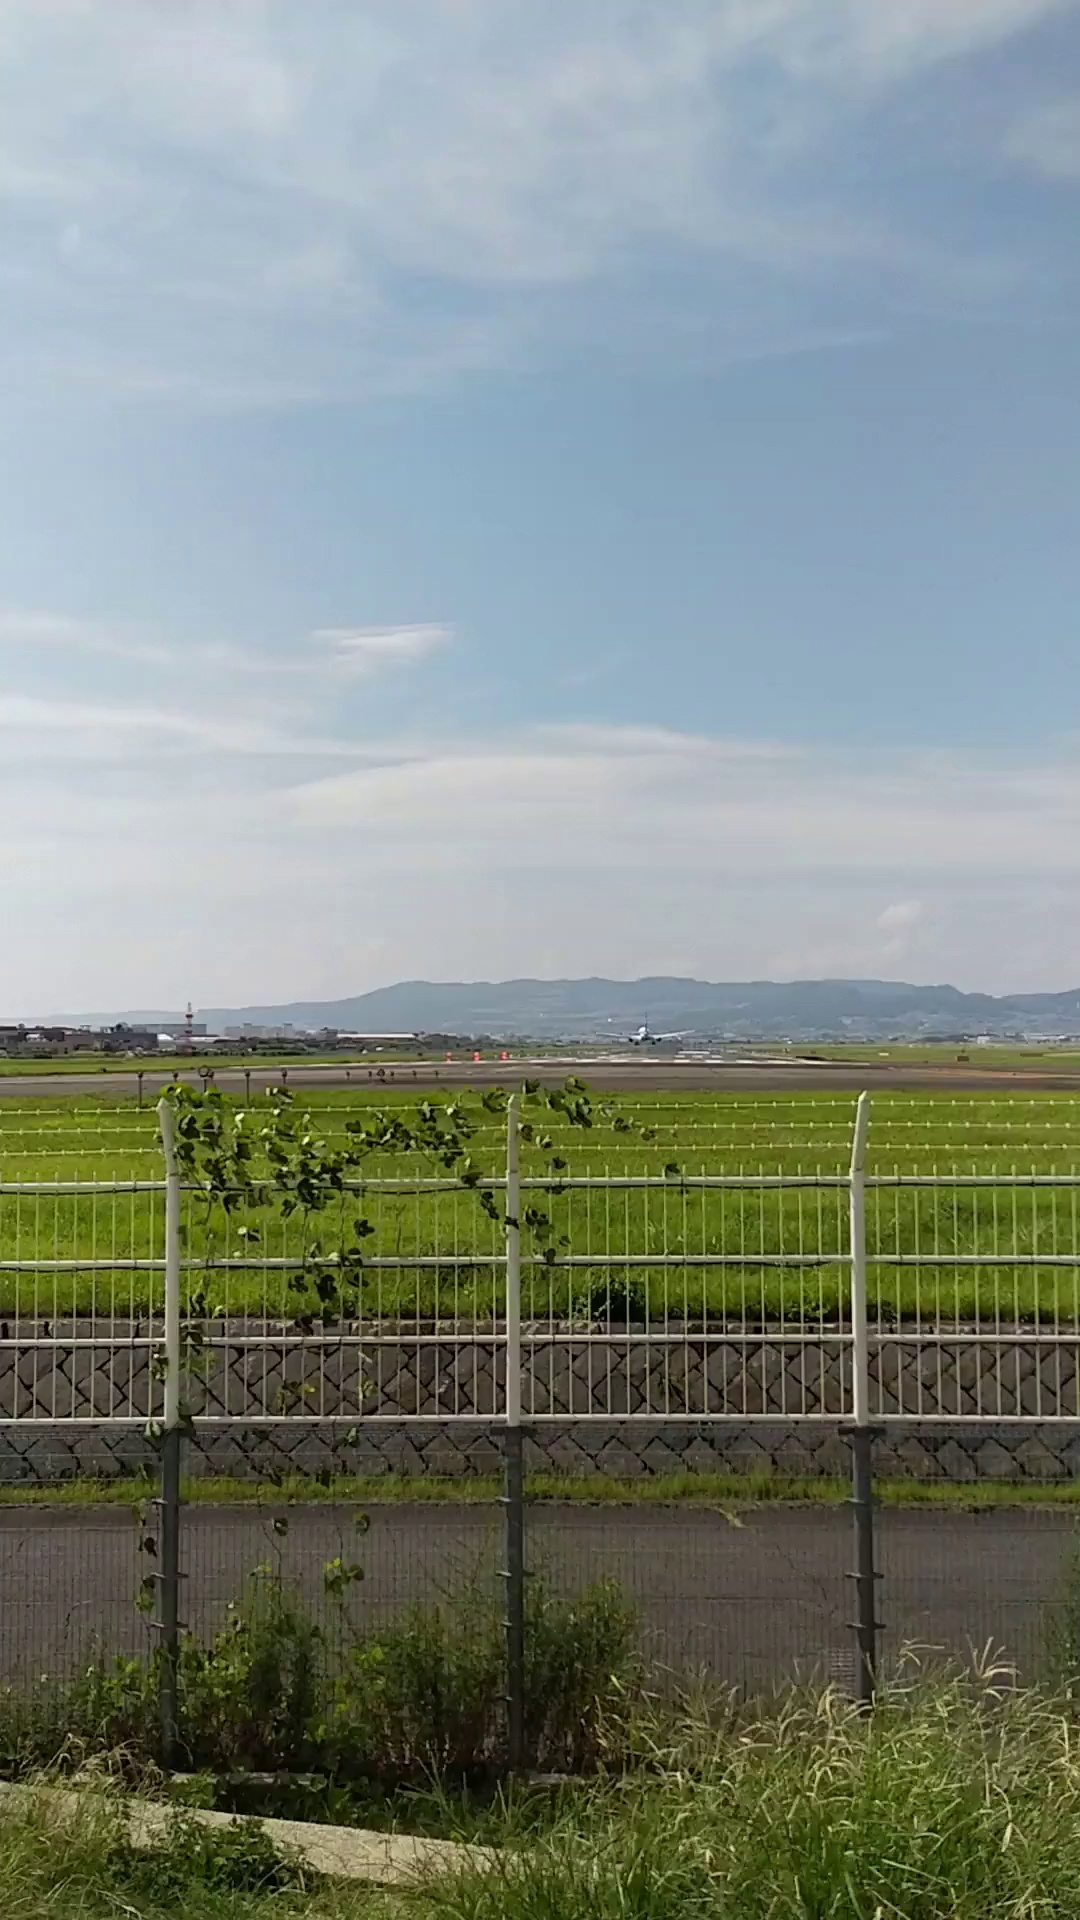plane: (593, 1009, 694, 1044)
